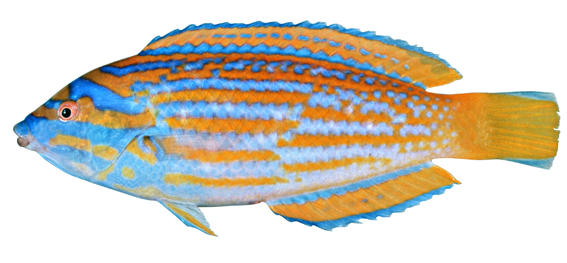fish: (13, 20, 560, 237)
